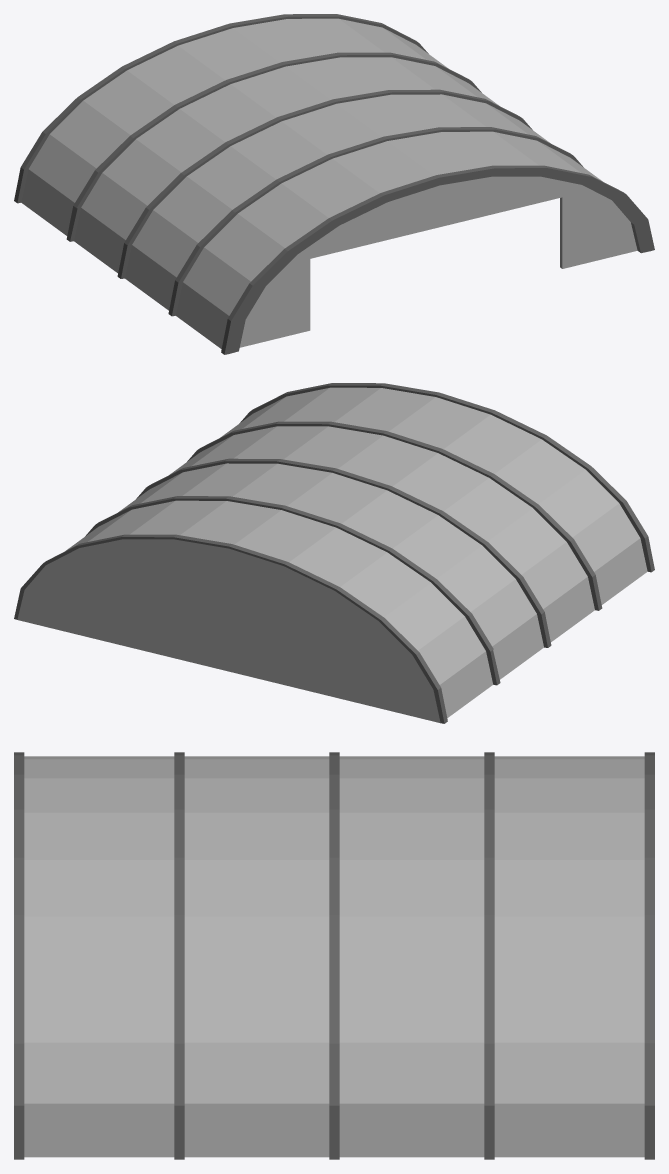
The model's file is Hangar4.fbx.
3 renders of one model, top to bottom at view 1: azimuth 30°, elevation 25°; view 2: azimuth 150°, elevation 25°; view 3: azimuth 270°, elevation 25°, orthographic. The views are drawn at different scales.
Visible parts, largest first — view 1: Cylinder; view 2: Cylinder; view 3: Cylinder.
Part boxes in pixels (x1,y1,x2,y2): Cylinder: [14, 14, 654, 354]; Cylinder: [14, 383, 654, 723]; Cylinder: [14, 752, 654, 1159].
Bounding box in the file's own units: 2197 × 1860 × 610.
